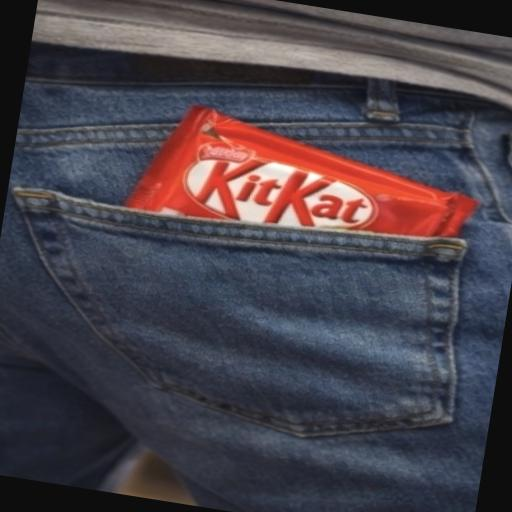kitkat: (97, 59, 512, 336)
